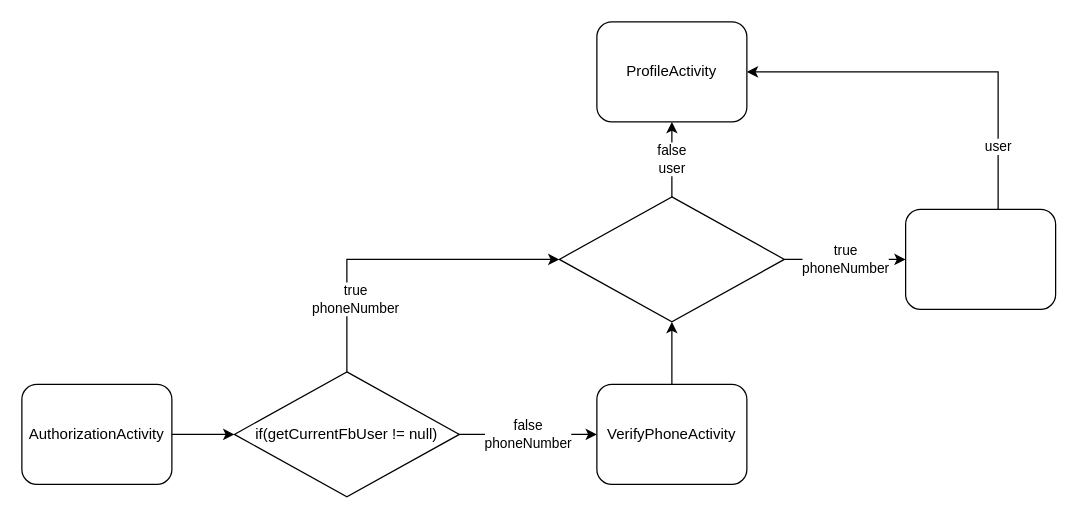
This 1078x519 diagram has some shape labels left out. Here are the shapes that lost their labels. From the top down, the centre of each, then its label:
At point 671,259: "if(user.name.isEmpty)".
At point 980,258: "RegistrationActivity".
